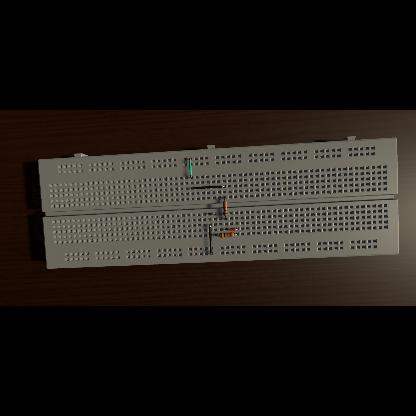breadboard: (38, 136, 398, 270)
resistor: (218, 232, 233, 238), (222, 202, 228, 216)
wire: (192, 186, 224, 190), (209, 224, 212, 254), (226, 228, 238, 232), (190, 159, 192, 179), (224, 216, 226, 220), (234, 233, 238, 235), (209, 213, 215, 214), (216, 234, 219, 236), (223, 198, 224, 200)
